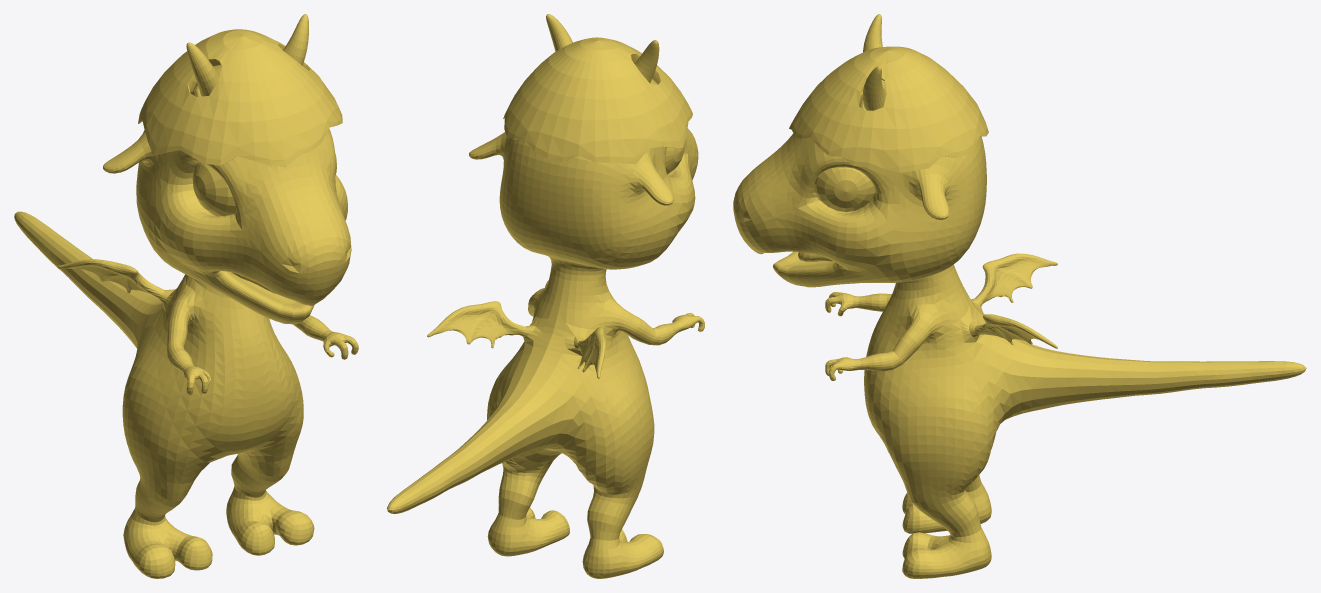
The model's file is dragon.obj.
The picture shows the model from 3 angles, left to right: view 1: azimuth 30°, elevation 25°; view 2: azimuth 150°, elevation 25°; view 3: azimuth 270°, elevation 25°; orthographic projection. The views are drawn at different scales.
Visible parts, largest first — view 1: drag; view 2: drag; view 3: drag.
Part boxes in pixels (x1,y1,x2,y2): drag: (14,14,358,578); drag: (387,14,704,578); drag: (733,14,1306,578).
Size of the model in its own units: 20.14 by 47.8 by 49.25.
